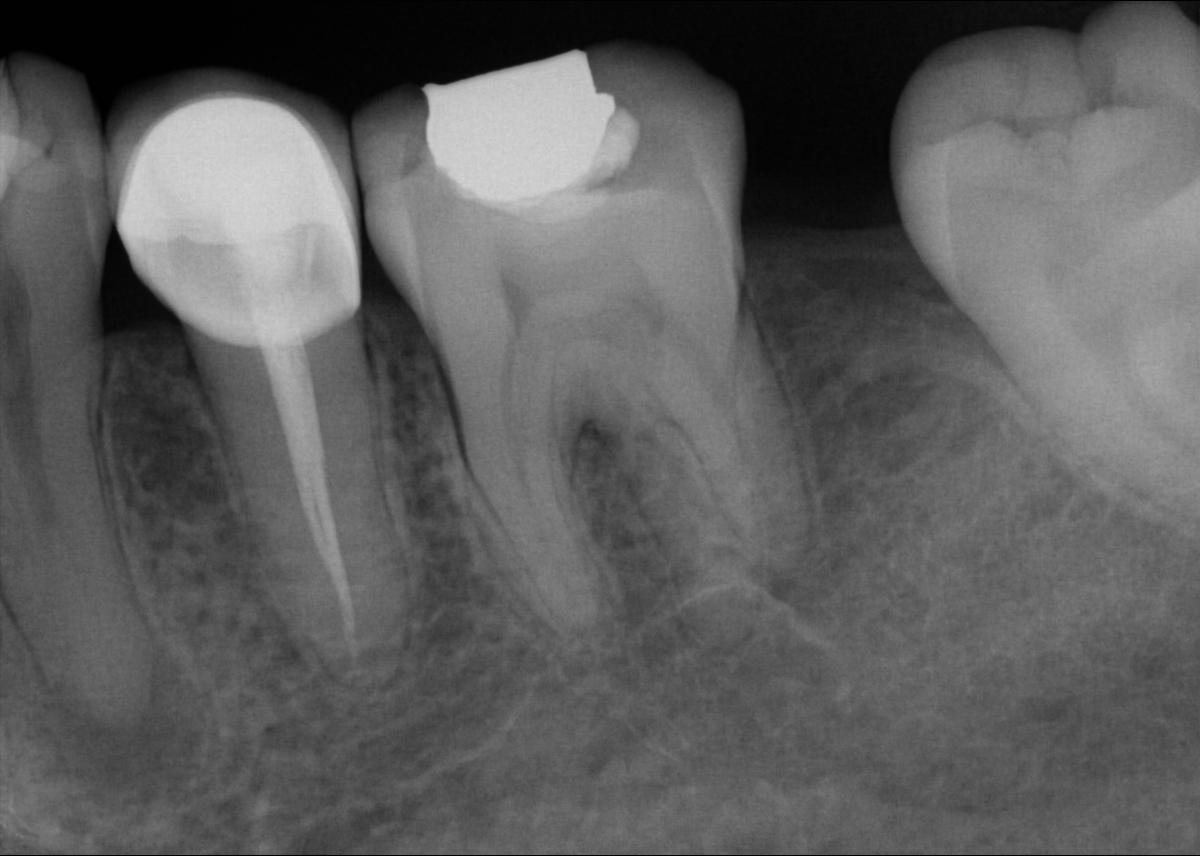Endo-Periodontal Lesion: (570, 416, 620, 489)
Furcation Involvement: (35, 636, 213, 808)
